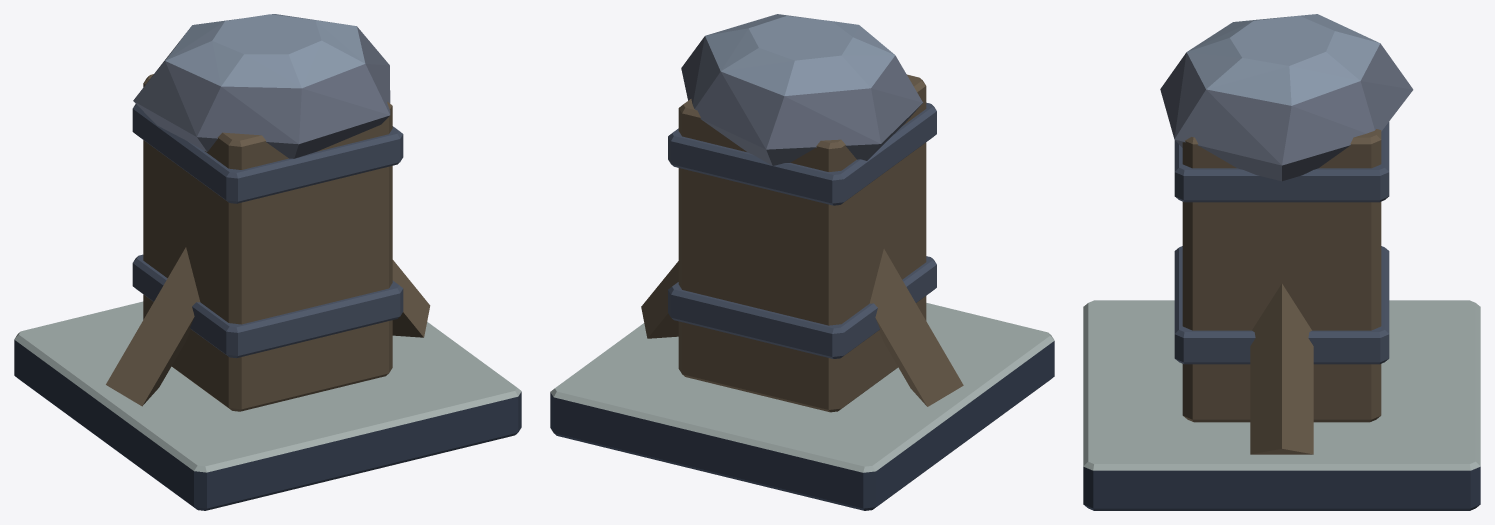
The model's file is pillar-broken.glb.
3 renders of one model, left to right at view 1: azimuth 30°, elevation 25°; view 2: azimuth 150°, elevation 25°; view 3: azimuth 270°, elevation 25°, orthographic. The views are drawn at different scales.
Visible parts, largest first — view 1: pillar-broken__body; view 2: pillar-broken__body; view 3: pillar-broken__body.
Part boxes in pixels (x1=…): pillar-broken__body: x1=14, y1=14, x2=521, y2=510; pillar-broken__body: x1=550, y1=14, x2=1054, y2=510; pillar-broken__body: x1=1083, y1=14, x2=1480, y2=510.
Size of the model in its own units: 1 by 1.08 by 1.
